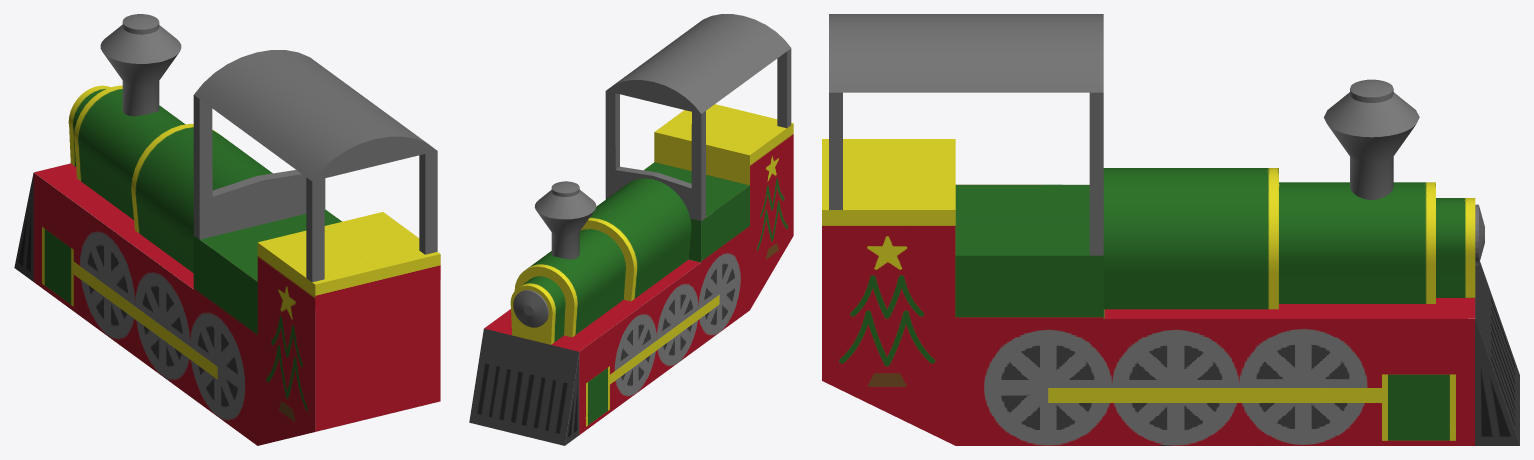
The model's file is Train.fbx.
3 views of the same model, side by side, from view 1: azimuth 30°, elevation 25°; view 2: azimuth 150°, elevation 25°; view 3: azimuth 270°, elevation 25° (orthographic). The views are drawn at different scales.
Parts seen in each view (by area): view 1: Body, Roof, Engine, PillarFront, Pipe, PillarBack; view 2: Body, Engine, Roof, PillarFront, Pipe, PillarBack, EngineFrontCap; view 3: Body, Engine, Roof, Pipe, PillarFront, PillarBack.
Part boxes in pixels (left/top/right/bottom): Body: left=14, top=163, right=440, bottom=445; Roof: left=194, top=50, right=437, bottom=181; Engine: left=68, top=85, right=272, bottom=272; PillarFront: left=193, top=95, right=325, bottom=239; Pipe: left=100, top=14, right=181, bottom=116; PillarBack: left=306, top=151, right=437, bottom=282; Body: left=469, top=104, right=793, bottom=445; Engine: left=510, top=178, right=691, bottom=344; Roof: left=606, top=14, right=790, bottom=113; PillarFront: left=605, top=91, right=705, bottom=220; Pipe: left=534, top=181, right=596, bottom=259; PillarBack: left=777, top=48, right=791, bottom=128; EngineFrontCap: left=513, top=290, right=548, bottom=327; Body: left=822, top=139, right=1519, bottom=445; Engine: left=1103, top=168, right=1475, bottom=309; Roof: left=829, top=14, right=1103, bottom=92; Pipe: left=1324, top=79, right=1419, bottom=199; PillarFront: left=1089, top=92, right=1103, bottom=255; PillarBack: left=829, top=92, right=842, bottom=209.
Bounding box in the file's own units: 0.6395 × 1.61 × 2.66.
